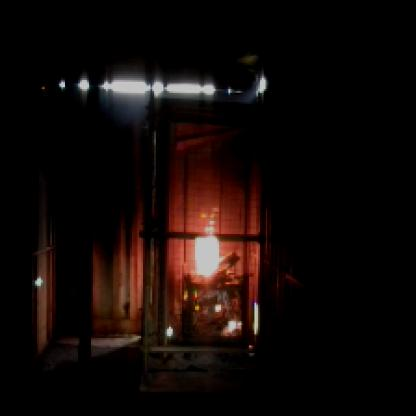Fire: (180, 212, 264, 342)
